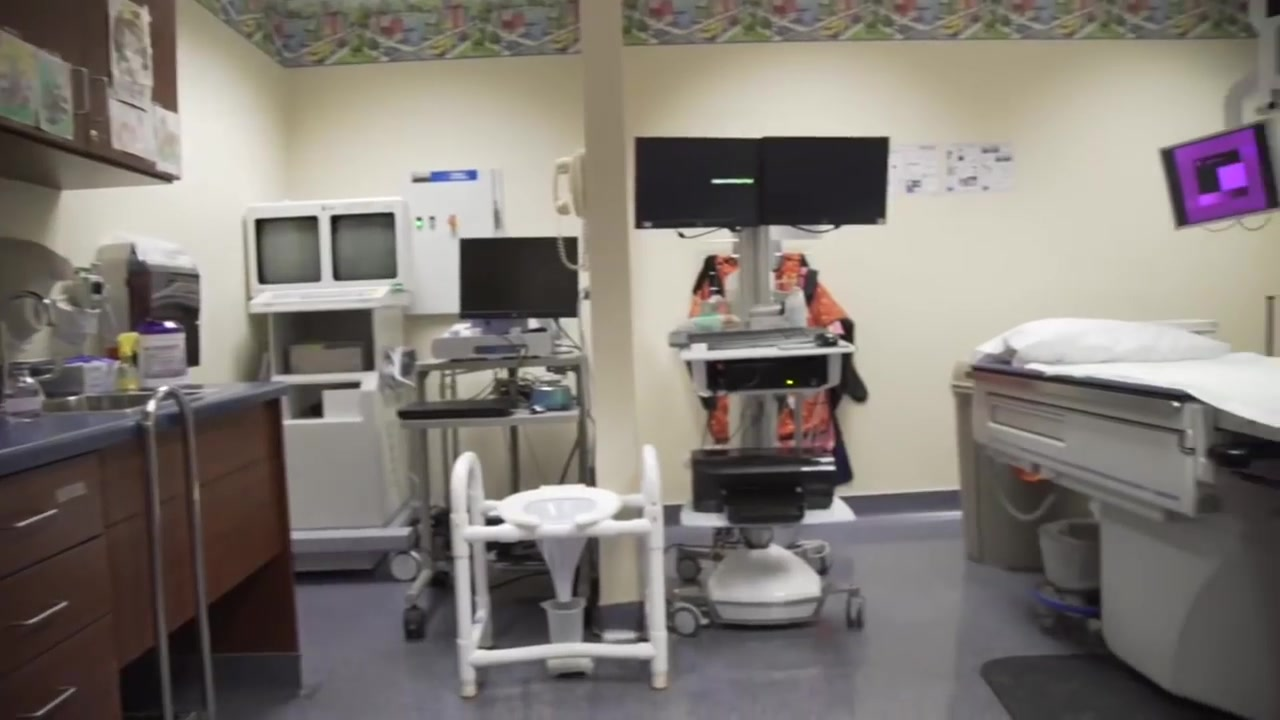bedside_monitor: (1158, 121, 1272, 229), (252, 211, 326, 289), (331, 210, 405, 288)
cabinet: (1, 1, 176, 200)
computer: (631, 136, 764, 228), (765, 138, 887, 224), (458, 235, 578, 319)
counter: (1, 399, 328, 710)
dispenser: (87, 238, 201, 371)
exam_table: (951, 317, 1280, 720)
faucet: (1, 289, 56, 411)
handle: (1, 597, 80, 628), (19, 688, 89, 720), (1, 508, 70, 538), (66, 64, 93, 118), (97, 70, 111, 129)
keyboard: (684, 329, 829, 352), (397, 400, 515, 418)
mouse: (813, 332, 837, 347), (529, 404, 549, 414)
sink: (33, 385, 197, 415)
telephone: (548, 150, 587, 217)
